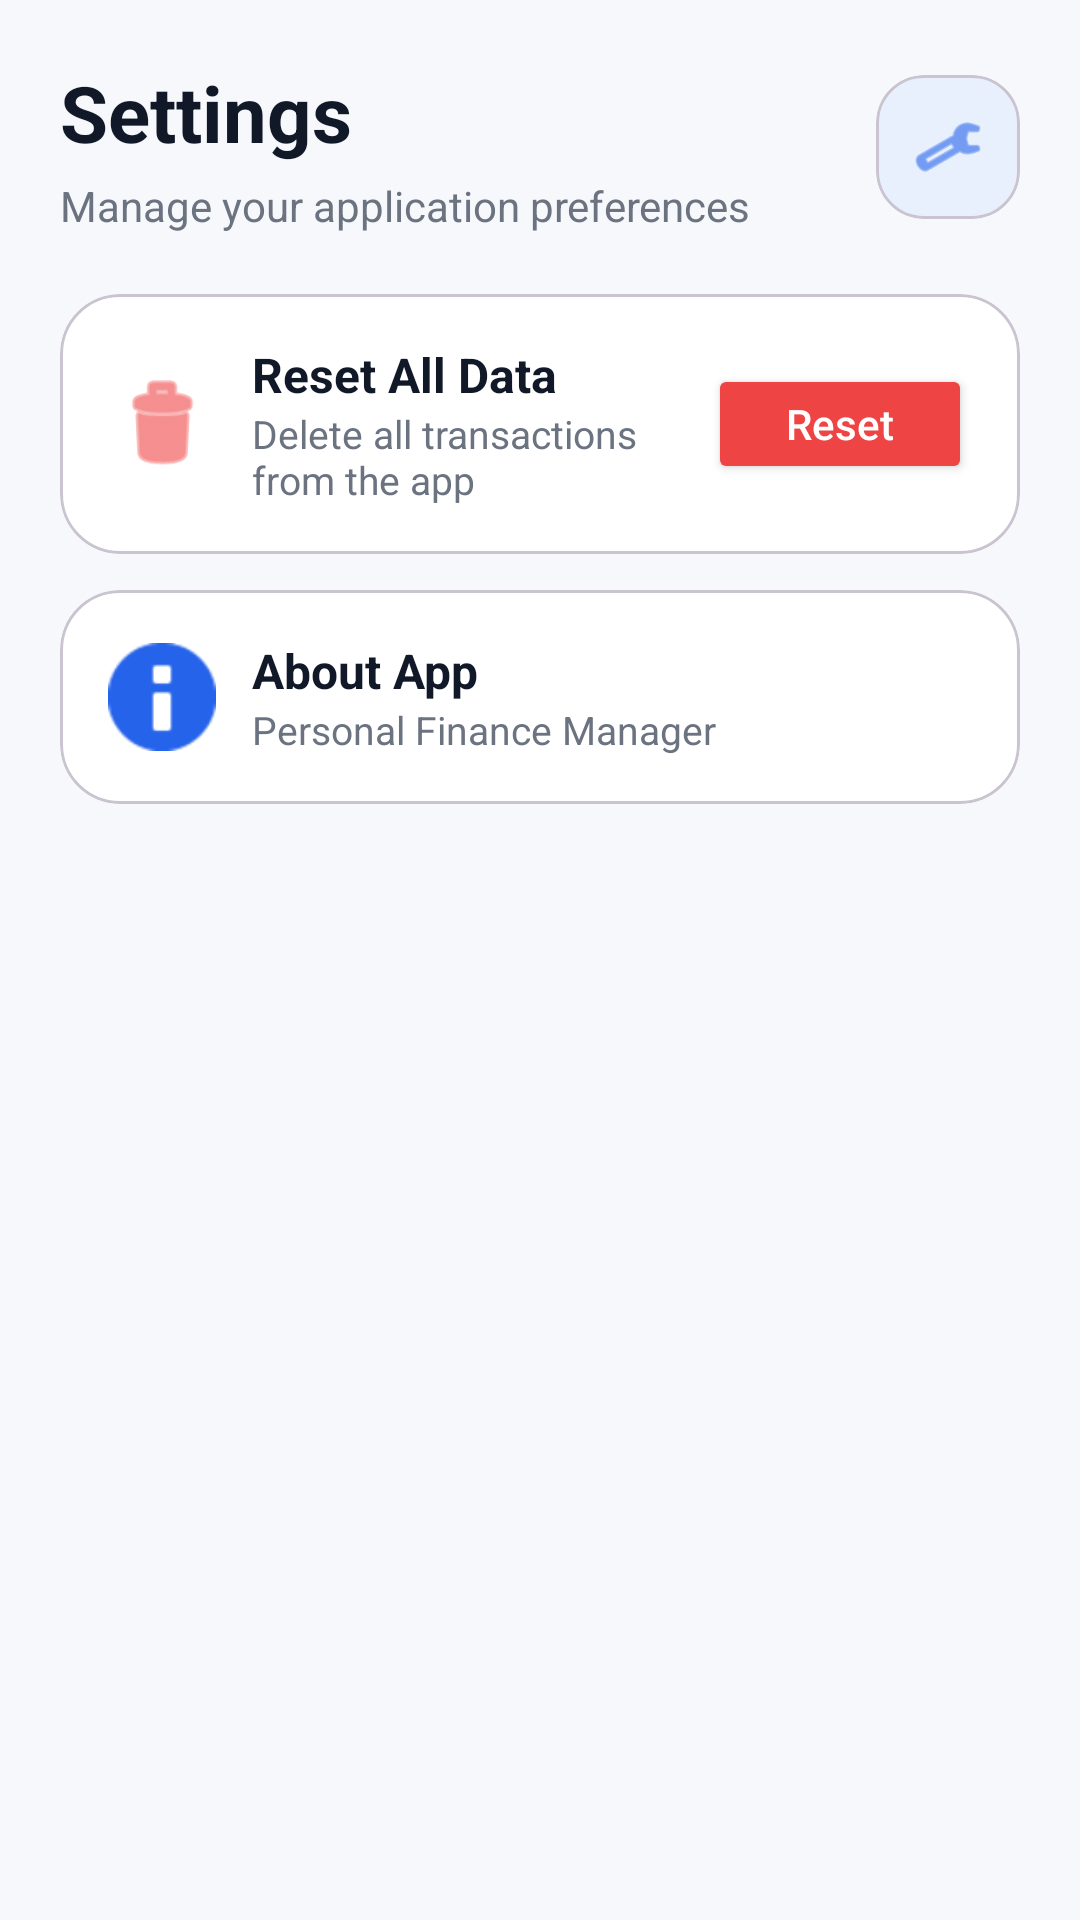

Icons on this 1080 × 1920 Android screen, each with its box as (x1, y1, x2, y2):
settings icon: (876, 75, 1020, 219)
